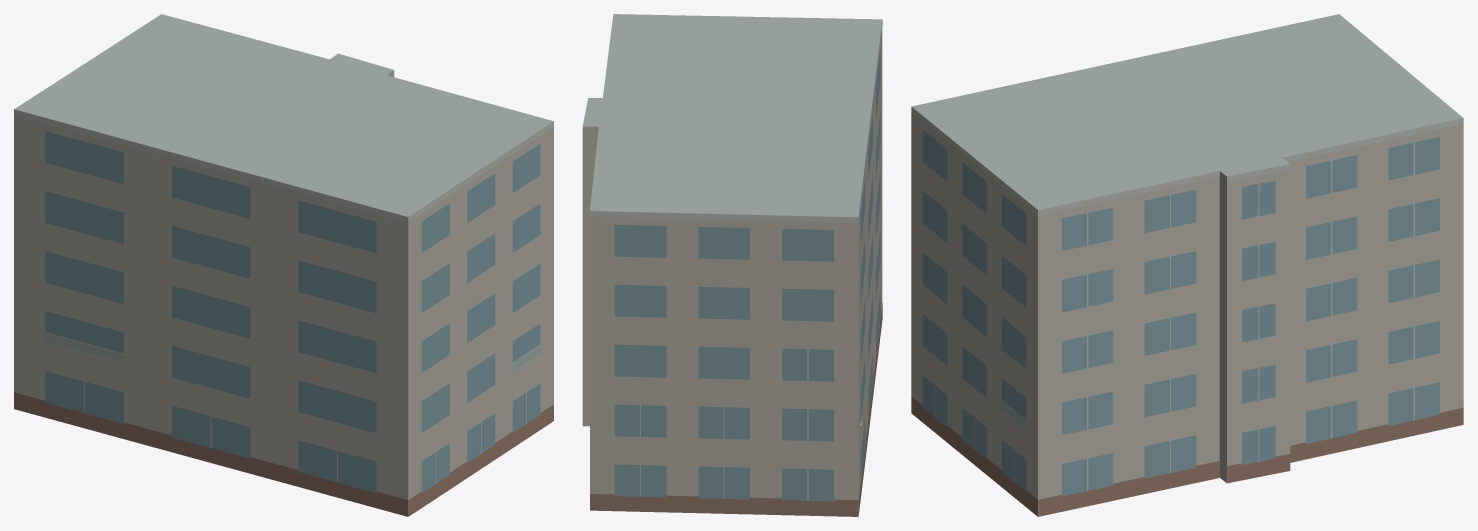
The model's file is survey-upis-32833601.glb.
3 renders of one model, left to right at view 1: azimuth 30°, elevation 25°; view 2: azimuth 150°, elevation 25°; view 3: azimuth 270°, elevation 25°, orthographic. The views are drawn at different scales.
Visible parts, largest first — view 1: survey-upis-32833601.tmp; view 2: survey-upis-32833601.tmp; view 3: survey-upis-32833601.tmp.
Part boxes in pixels (box(x1,y1,x2,y2)): survey-upis-32833601.tmp: box(14, 14, 553, 516); survey-upis-32833601.tmp: box(582, 14, 882, 516); survey-upis-32833601.tmp: box(911, 14, 1463, 516).
Bounding box in the file's own units: 18.09 × 13.2 × 21.53.
